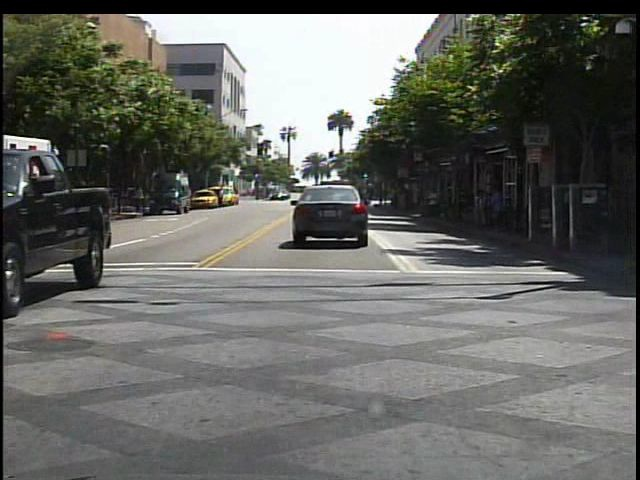person: (424, 184, 444, 221)
